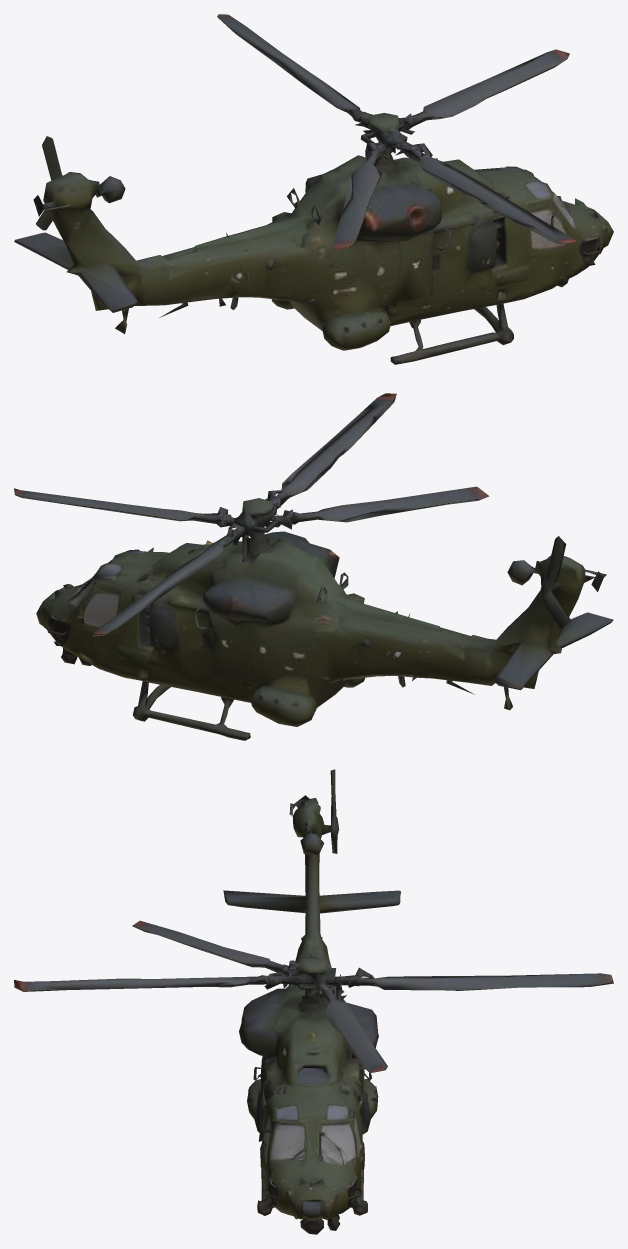
The model's file is heli.glb.
3 views of the same model, one above another, from view 1: azimuth 30°, elevation 25°; view 2: azimuth 150°, elevation 25°; view 3: azimuth 270°, elevation 25° (orthographic). The views are drawn at different scales.
Parts seen in each view (by area): view 1: tripo_node_7b36a23b-4053-4433-9b0f-ea138d98ebfb; view 2: tripo_node_7b36a23b-4053-4433-9b0f-ea138d98ebfb; view 3: tripo_node_7b36a23b-4053-4433-9b0f-ea138d98ebfb.
Part boxes in pixels (<box>): tripo_node_7b36a23b-4053-4433-9b0f-ea138d98ebfb: <box>14,14,613,364</box>; tripo_node_7b36a23b-4053-4433-9b0f-ea138d98ebfb: <box>14,393,613,740</box>; tripo_node_7b36a23b-4053-4433-9b0f-ea138d98ebfb: <box>14,769,613,1234</box>.
Size of the model in its own units: 1 by 0.4707 by 0.9893.
Materials: 1 (1 with a texture image).
